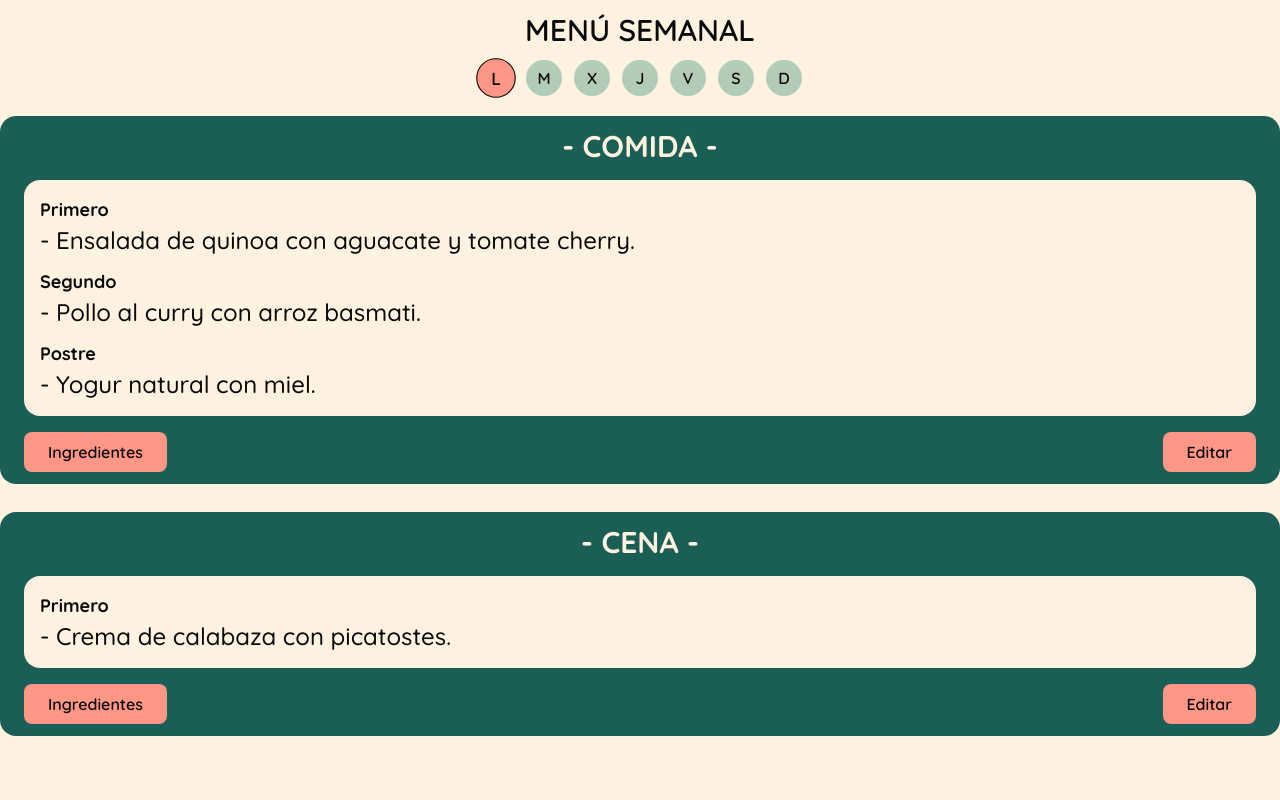
Test: Given the MenuPage component › When it renders › And the user click on 'X' › Then it should show a 'Pasta integral con salsa de tomate y albahaca' as first plate in Wednesday's lunch
Step 1. Click the button "X" → [592, 78], box [574, 60, 610, 96]
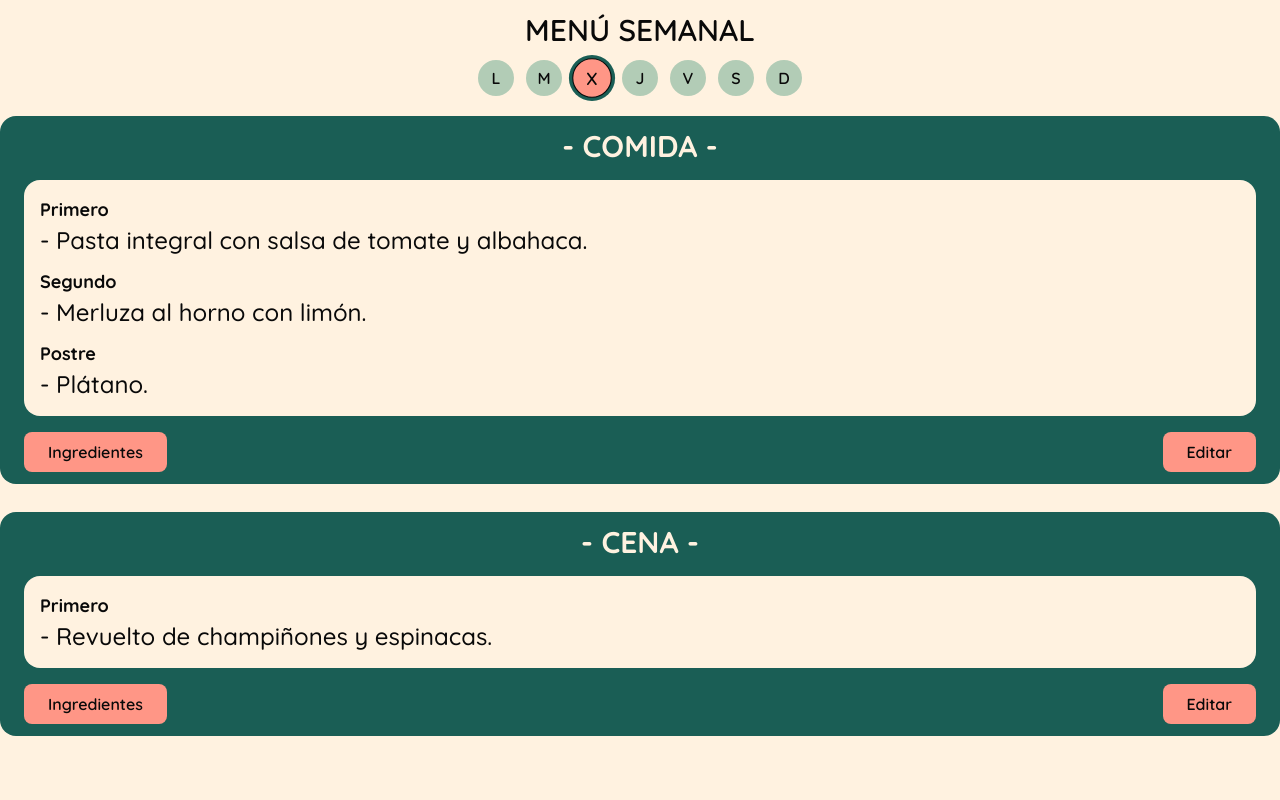
Now the text "- Pasta integral con salsa de tomate y albahaca." is shown, box [40, 225, 587, 255]
